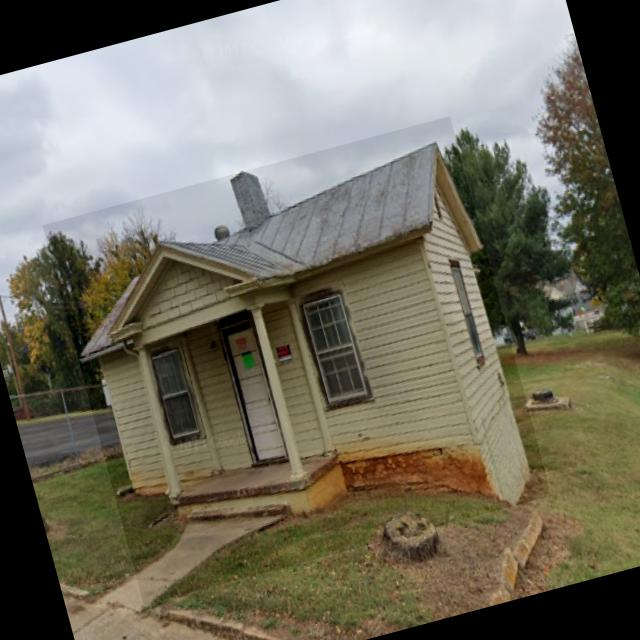House: (42, 116, 551, 604)
